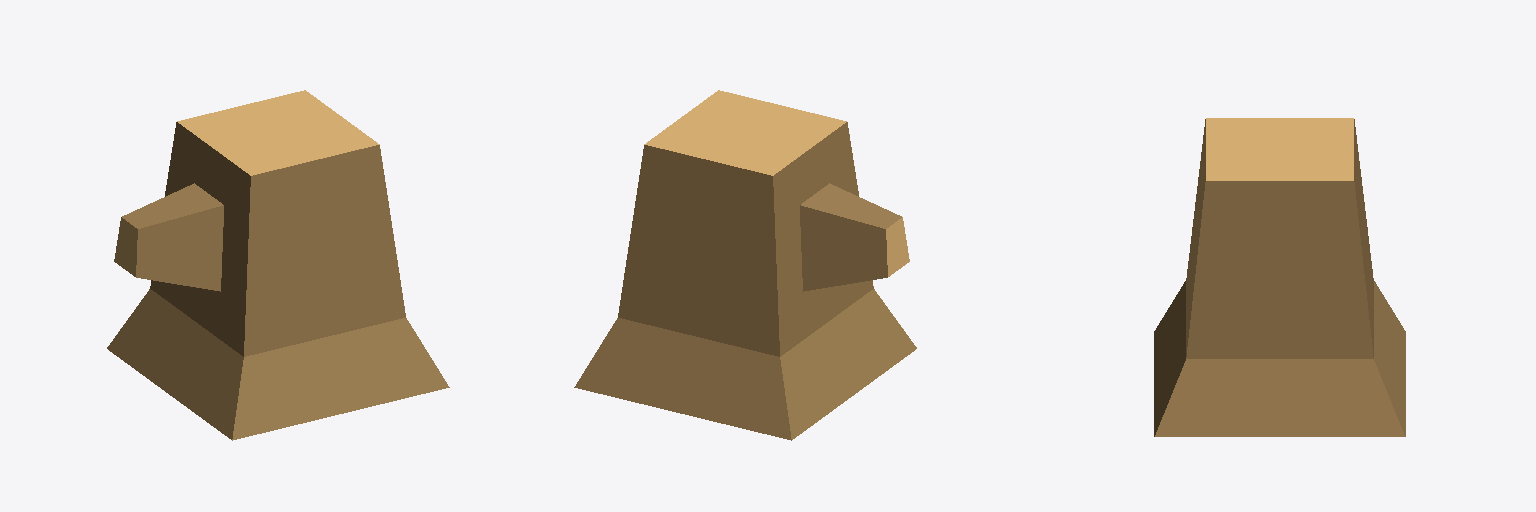
The picture shows the model from 3 angles: view 1: azimuth 30°, elevation 25°; view 2: azimuth 150°, elevation 25°; view 3: azimuth 270°, elevation 25°; orthographic projection.
Visible parts, largest first — view 1: Mesh1 Trunk_Alt Model; view 2: Mesh1 Trunk_Alt Model; view 3: Mesh1 Trunk_Alt Model.
Part boxes in pixels (left/top/right/bottom): Mesh1 Trunk_Alt Model: left=107, top=90, right=449, bottom=440; Mesh1 Trunk_Alt Model: left=574, top=90, right=916, bottom=440; Mesh1 Trunk_Alt Model: left=1154, top=118, right=1405, bottom=436.
Bounding box in the file's own units: 0.9675 × 0.83 × 0.8037.
Materials: 1 (1 with a texture image).